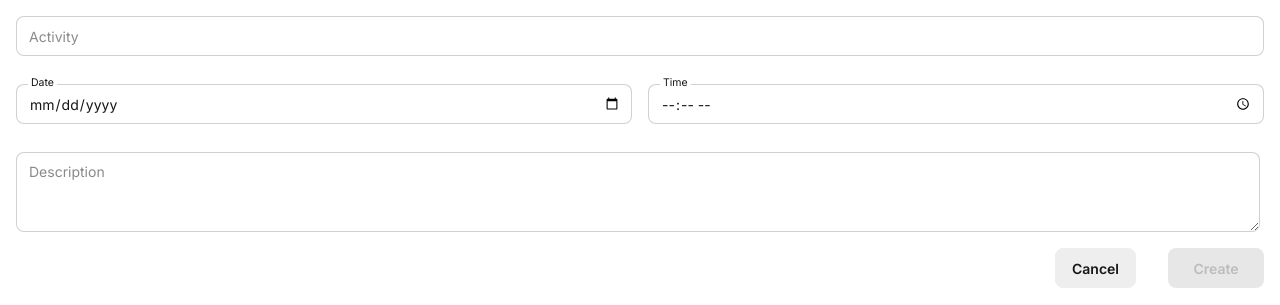
Test: Itinerary Item Editor › activity input › required error › is displayed after tabbing out of the input
Click the field labelled "Activity". click: (640, 36)
box: [16,16,1264,56]
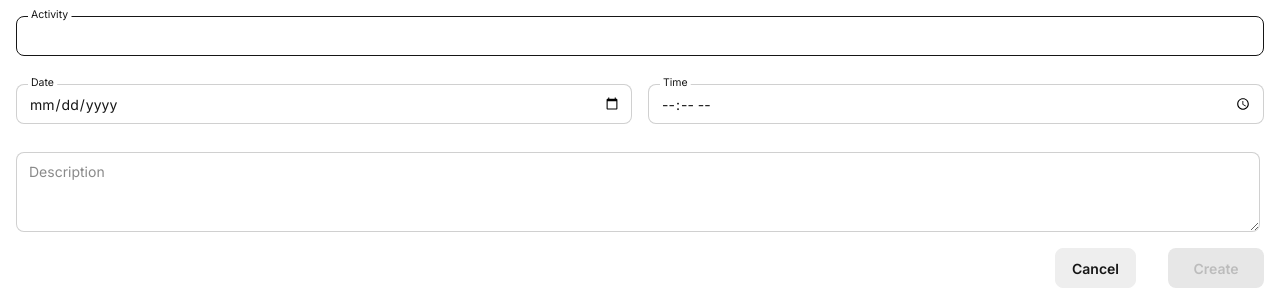
Press Tab
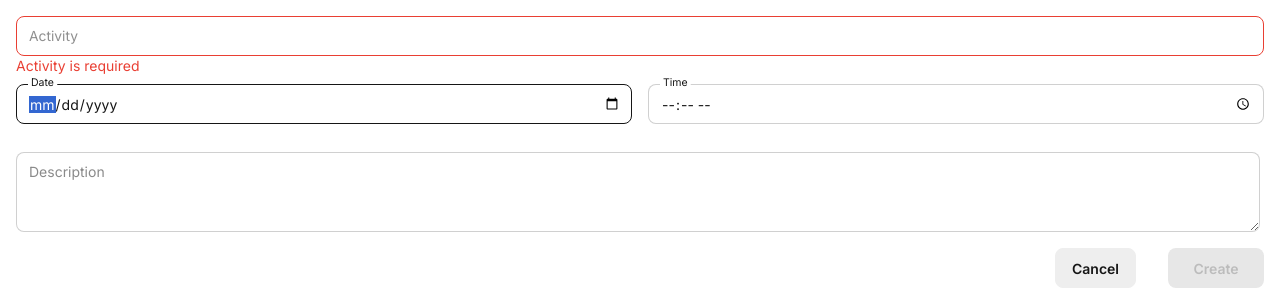
Result: the text "Activity is required" is shown at [16,57,140,74]
